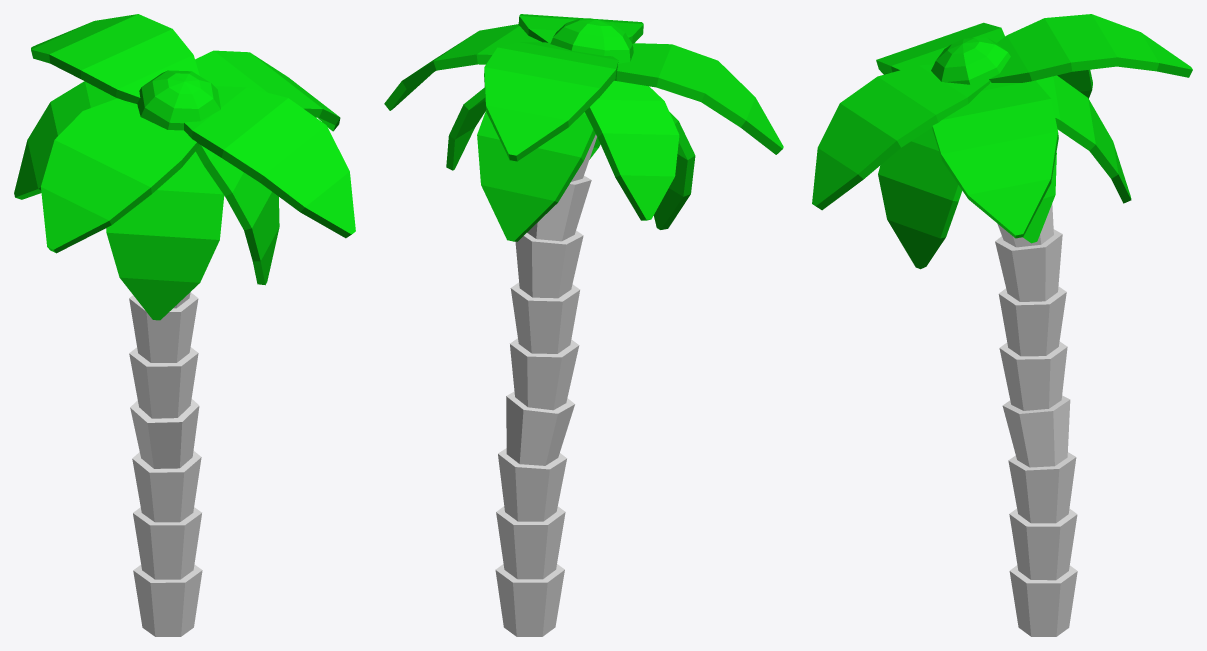
The model's file is Tree_09.fbx.
The picture shows the model from 3 angles, left to right: view 1: azimuth 30°, elevation 25°; view 2: azimuth 150°, elevation 25°; view 3: azimuth 270°, elevation 25°; orthographic projection. The views are drawn at different scales.
Visible parts, largest first — view 1: Cylinder.008; view 2: Cylinder.008; view 3: Cylinder.008.
Part boxes in pixels (x1,y1,x2,y2): Cylinder.008: [14, 14, 355, 636]; Cylinder.008: [384, 14, 783, 636]; Cylinder.008: [812, 14, 1192, 636].
Bounding box in the file's own units: 310 × 504 × 303.
